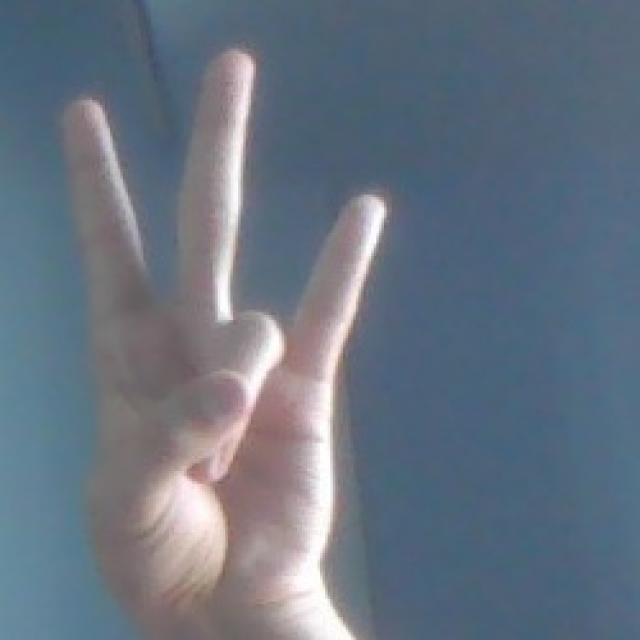Numeric-7: (66, 45, 403, 640)
